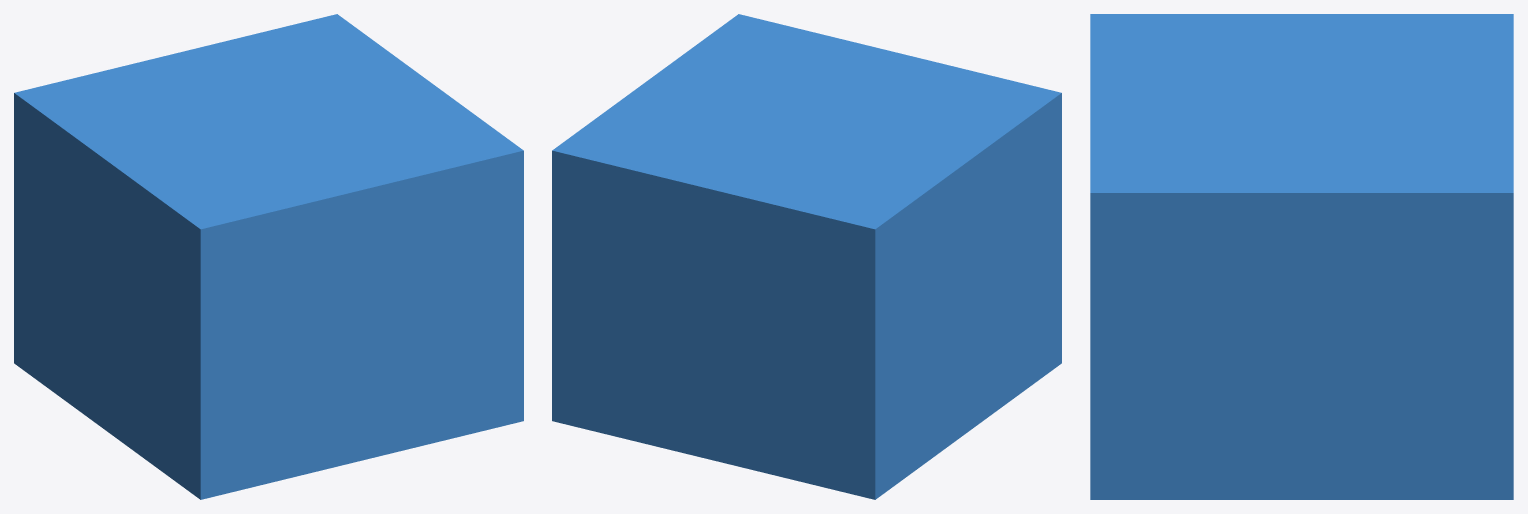
File: chalk_cube.glb
3 renders of one model, left to right at view 1: azimuth 30°, elevation 25°; view 2: azimuth 150°, elevation 25°; view 3: azimuth 270°, elevation 25°, orthographic. The views are drawn at different scales.
Parts seen in each view (by area): view 1: chalk_cube; view 2: chalk_cube; view 3: chalk_cube.
Part boxes in pixels (left/top/right/bottom): chalk_cube: left=14, top=14, right=523, bottom=499; chalk_cube: left=552, top=14, right=1061, bottom=499; chalk_cube: left=1090, top=14, right=1513, bottom=499.
Bounding box in the file's own units: 0.05 × 0.04 × 0.05.
